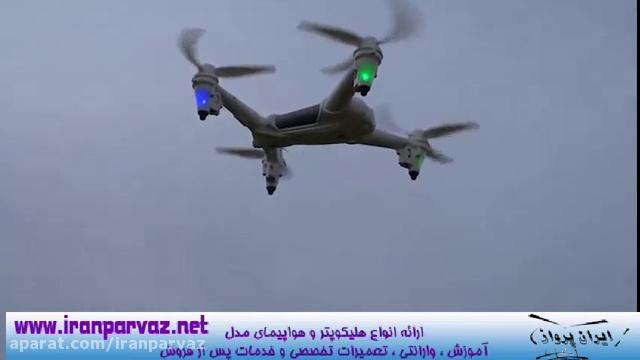drone: (170, 0, 486, 204)
